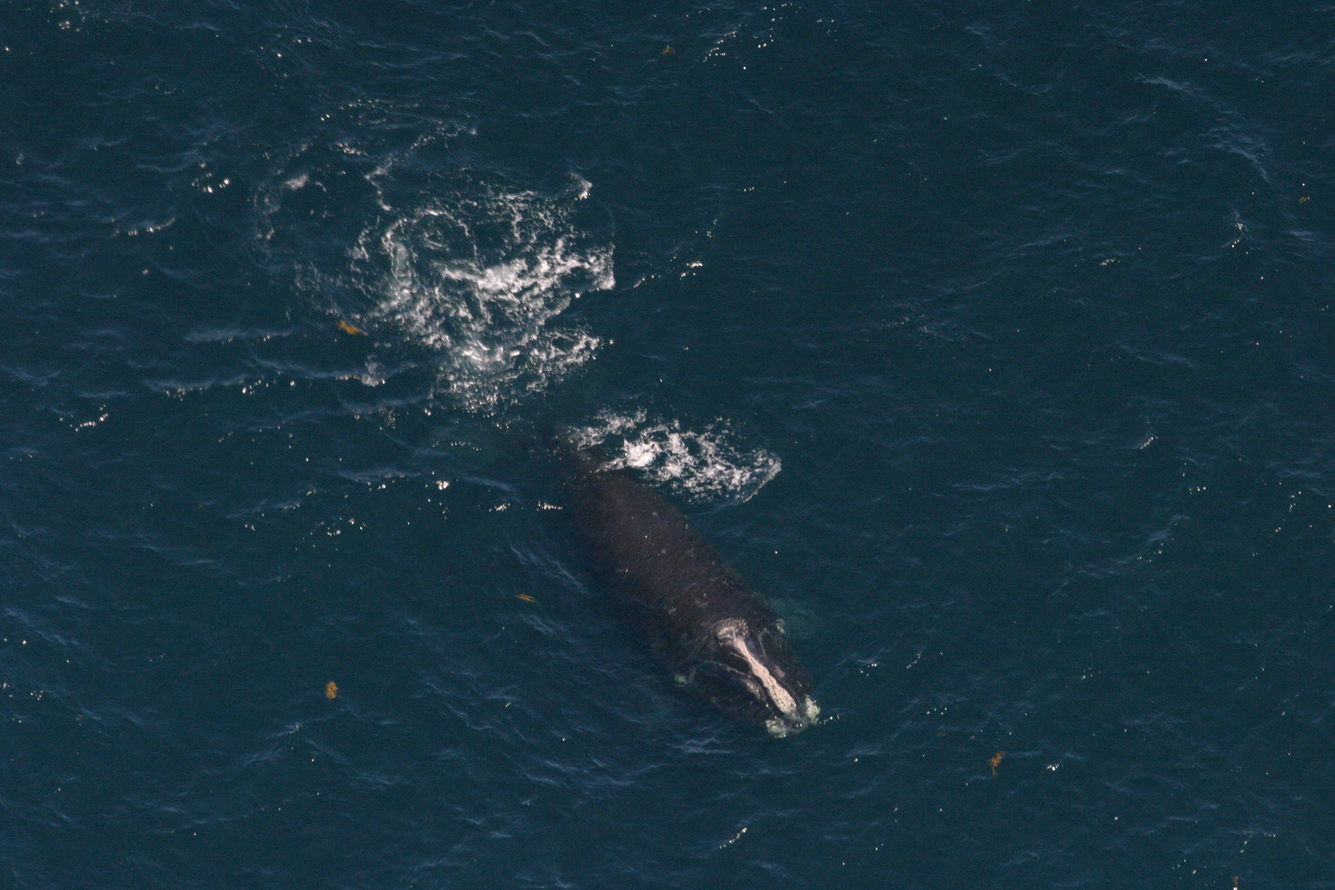whale: (519, 393, 832, 754)
